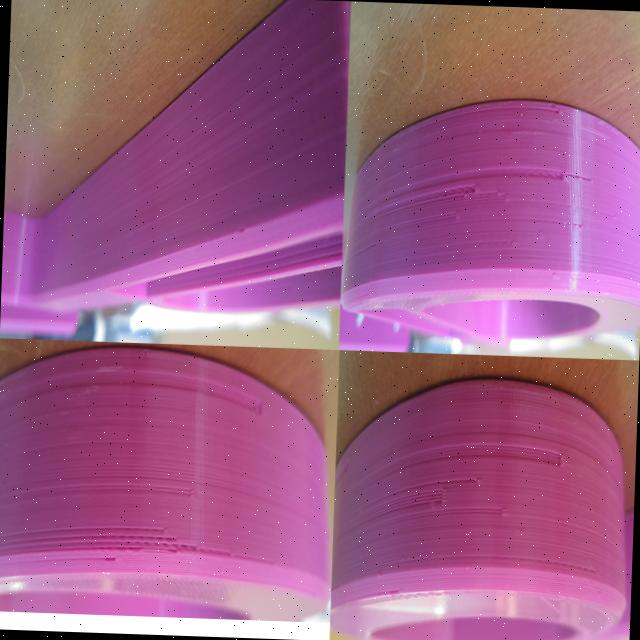cracks: (8, 354, 276, 452), (389, 147, 598, 230), (379, 417, 567, 492), (48, 516, 232, 562)
